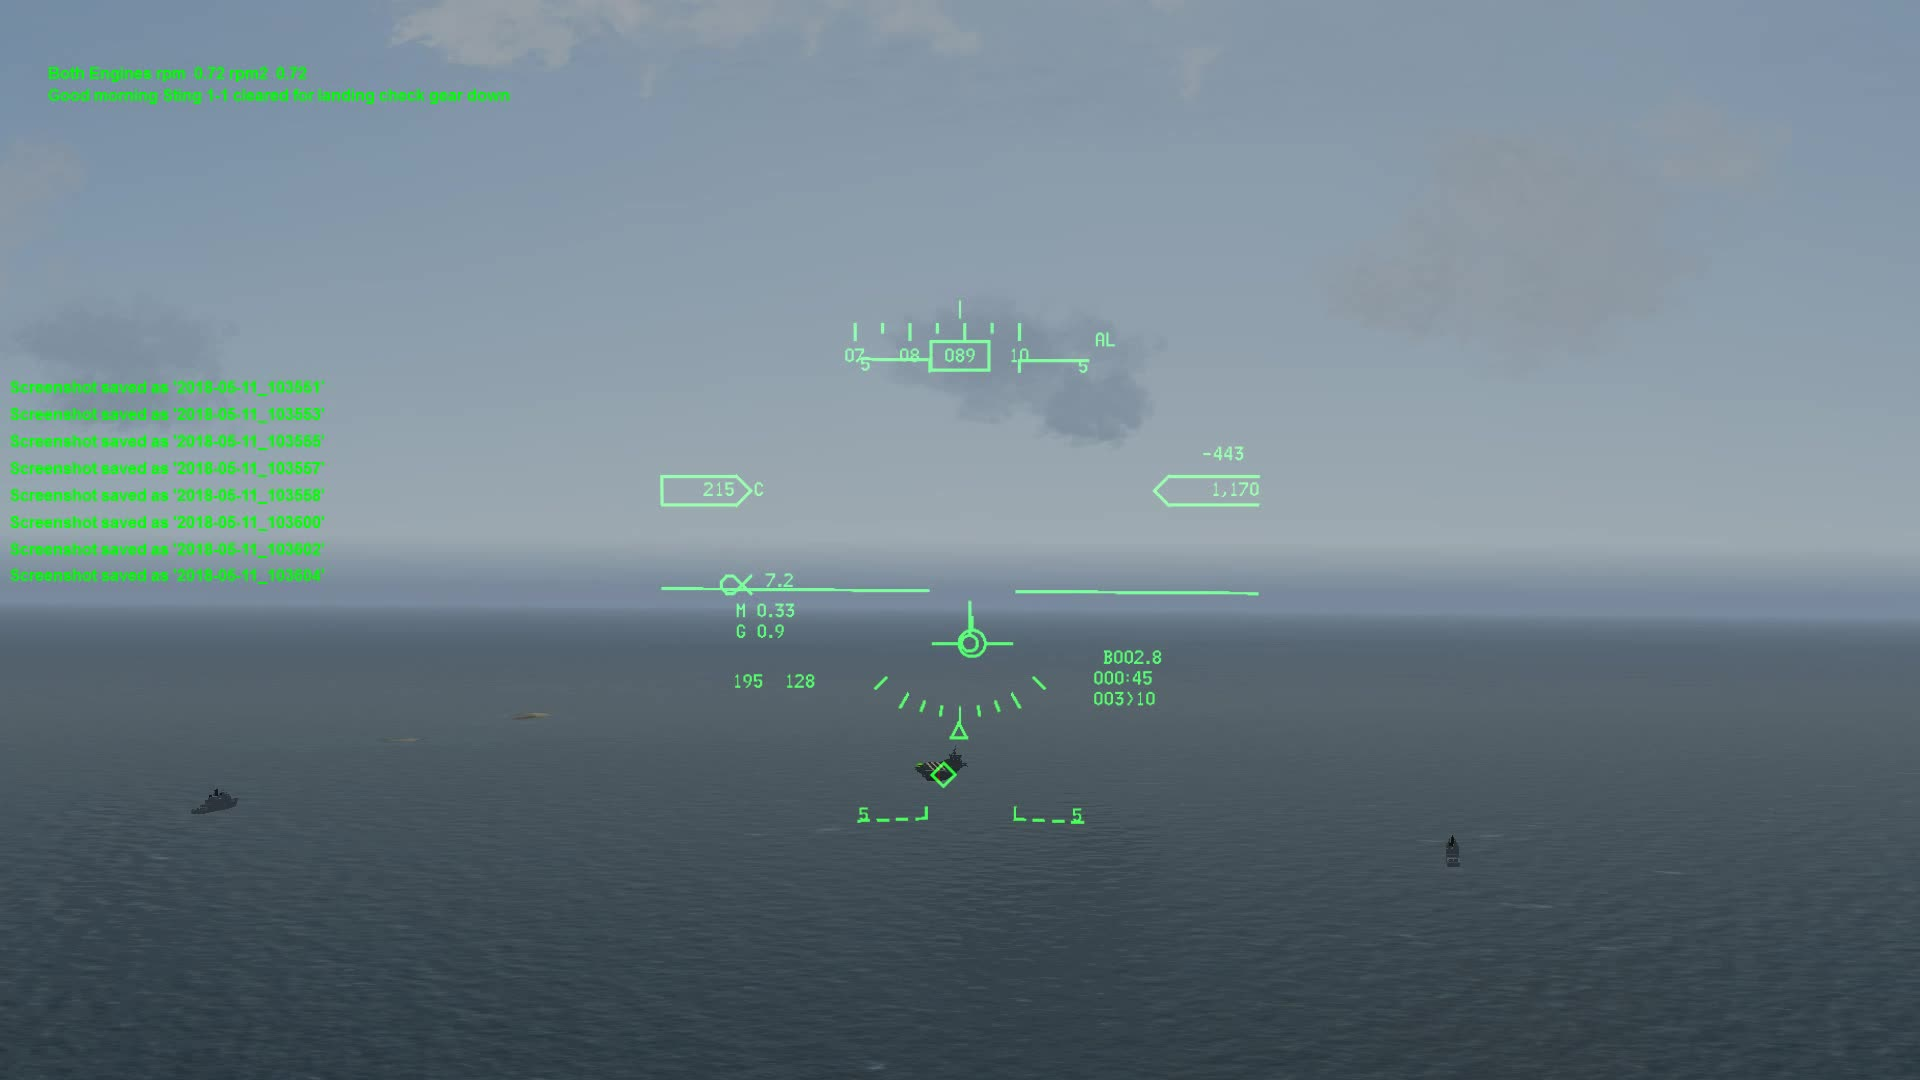speed vector: (920, 608, 1023, 663)
